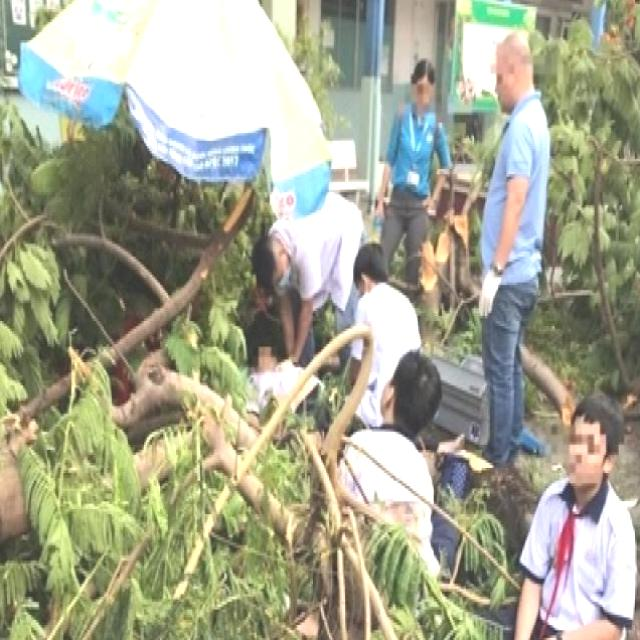fallen_object: (0, 311, 393, 640)
